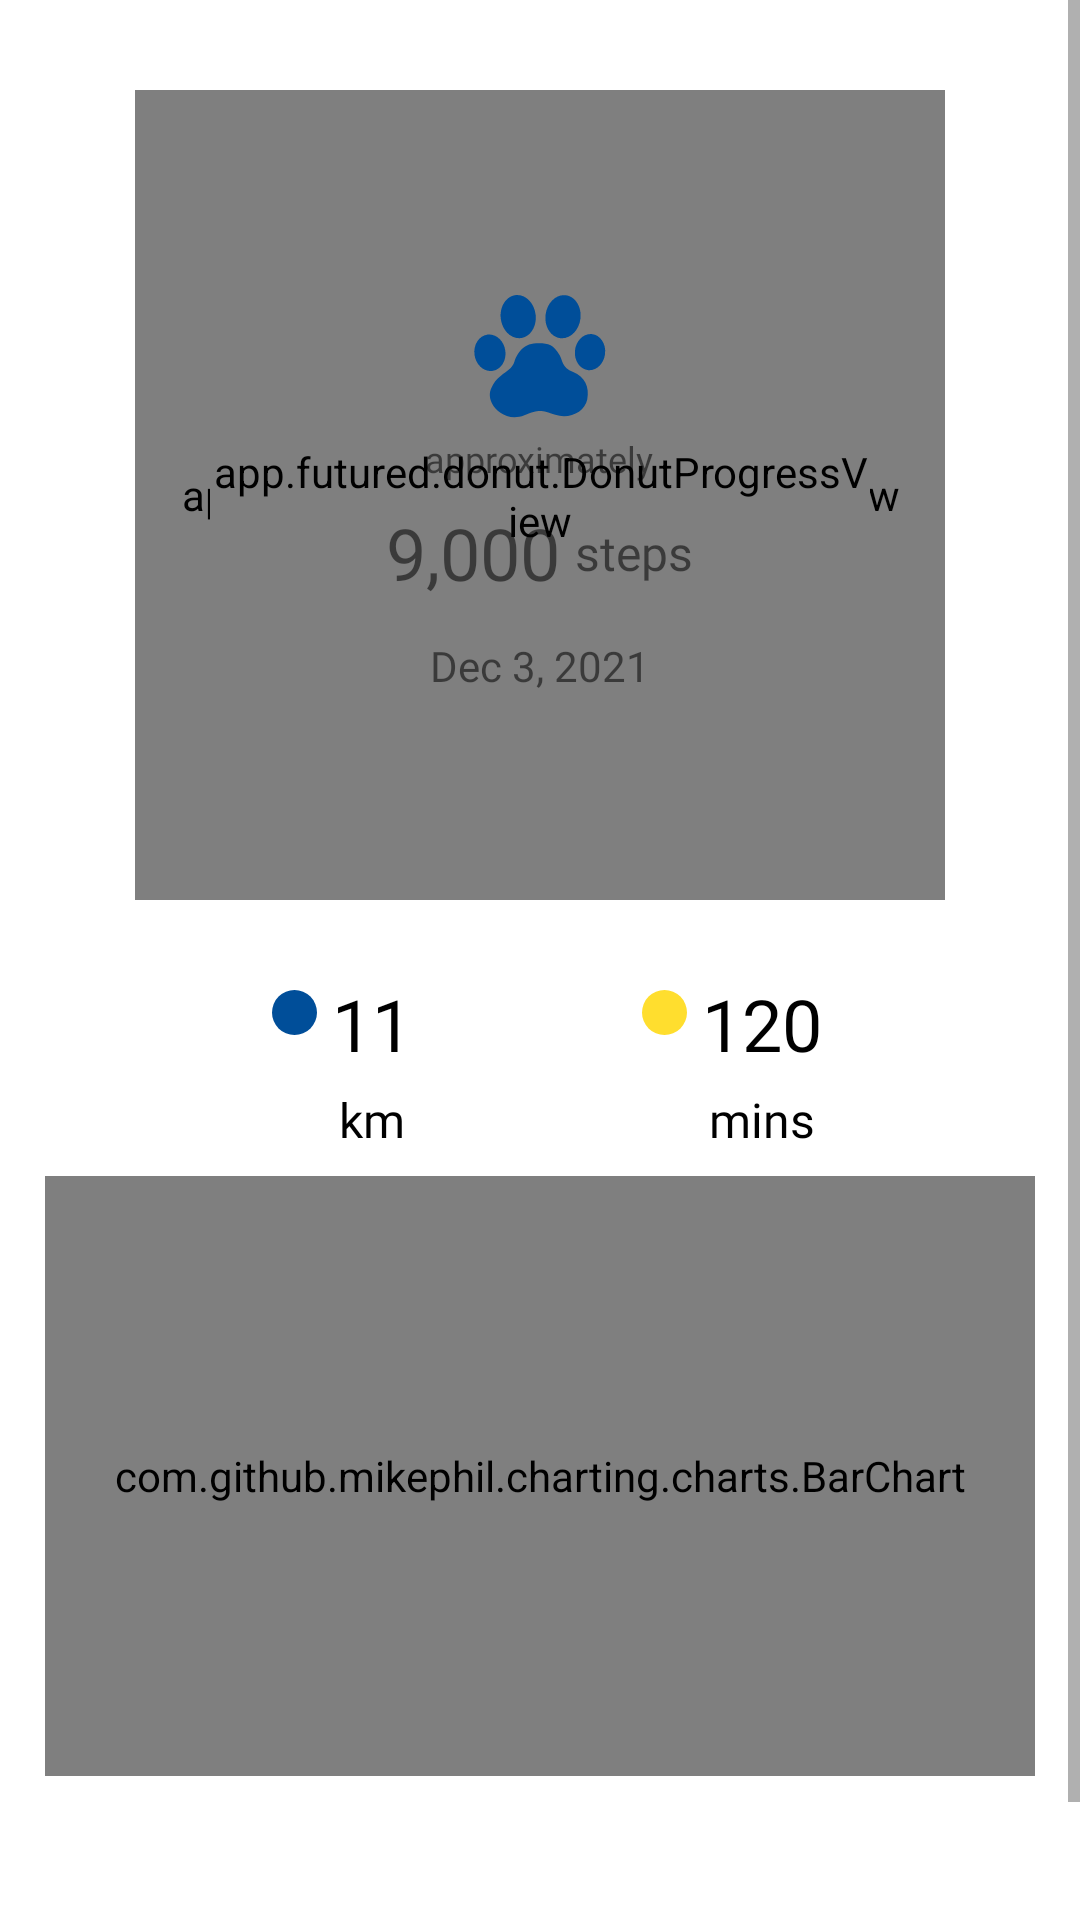

Named icons in this screenshot (1080px x 1920px) and their bounding boxes, [x1,y1,x2,y2]:
paw: [474,295,606,418]
